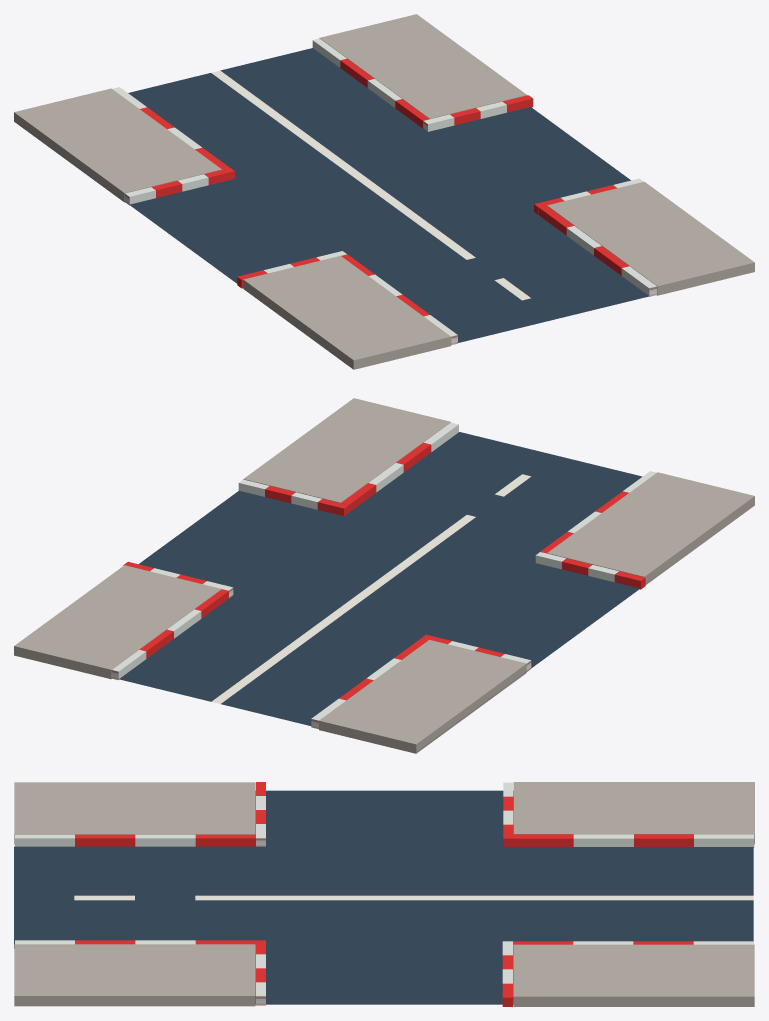
Rendered from intersection.fbx.
3 renders of one model, top to bottom at view 1: azimuth 30°, elevation 25°; view 2: azimuth 150°, elevation 25°; view 3: azimuth 270°, elevation 25°, orthographic. The views are drawn at different scales.
Visible parts, largest first — view 1: road, ledge.001, ledge, ledge.002, ledge.003; view 2: road, ledge.001, ledge.002, ledge, ledge.003; view 3: road, ledge.002, ledge.003, ledge.001, ledge.
Part boxes in pixels (x1,y1,x2,y2): road: [15, 48, 649, 342]; ledge.001: [14, 87, 234, 205]; ledge: [237, 251, 457, 369]; ledge.002: [534, 178, 754, 296]; ledge.003: [312, 14, 533, 131]; road: [119, 432, 642, 751]; ledge.001: [311, 634, 531, 753]; ledge.002: [238, 398, 458, 516]; ledge: [535, 471, 754, 589]; ledge.003: [14, 561, 233, 680]; road: [14, 790, 753, 1004]; ledge.002: [14, 940, 265, 1006]; ledge.003: [502, 941, 754, 1006]; ledge.001: [503, 782, 754, 847]; ledge: [14, 782, 265, 846].
Size of the model in its own units: 1688 by 37.76 by 2452.
